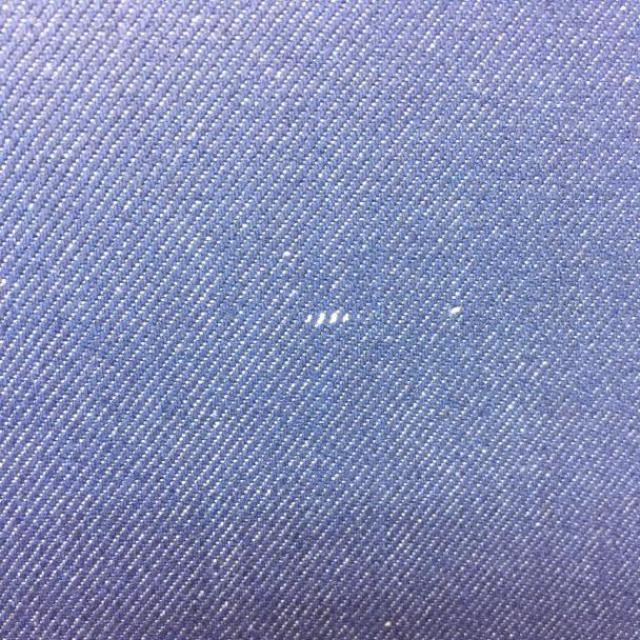Knot: (306, 309, 352, 328), (449, 306, 464, 317)
